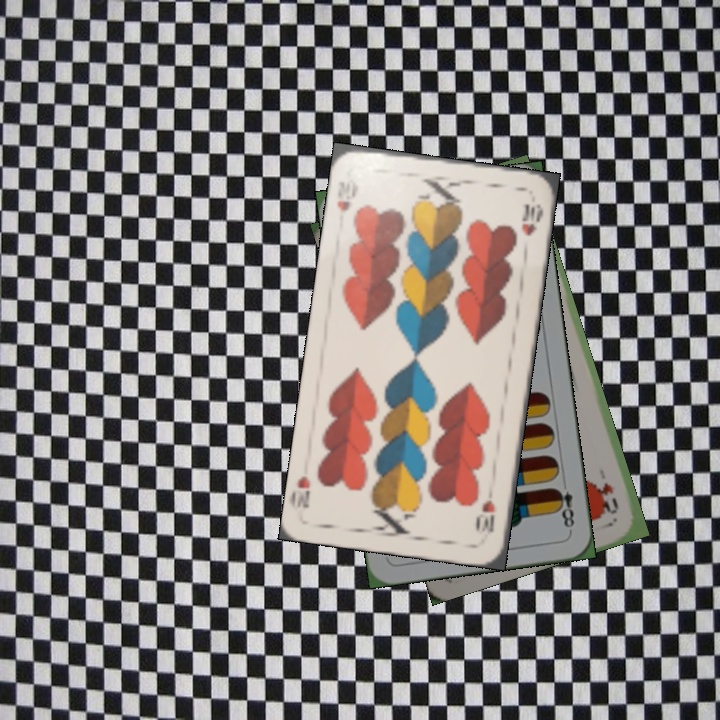E8: (550, 484, 577, 534)
H10: (333, 175, 361, 214), (474, 496, 498, 535)
HO: (598, 478, 622, 517)
